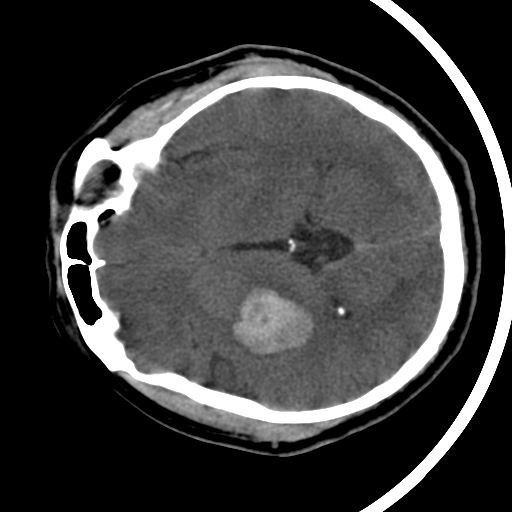a: (216, 260, 328, 370)
